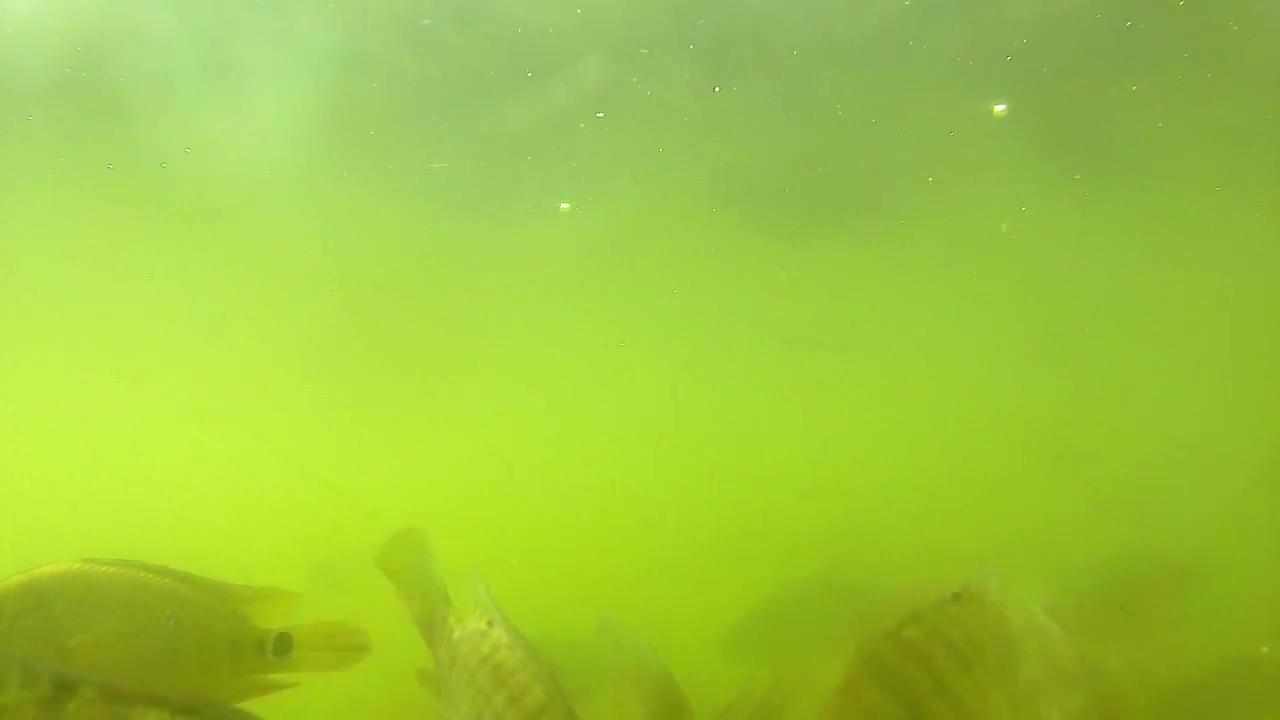Tilapia: (0, 550, 375, 720)
